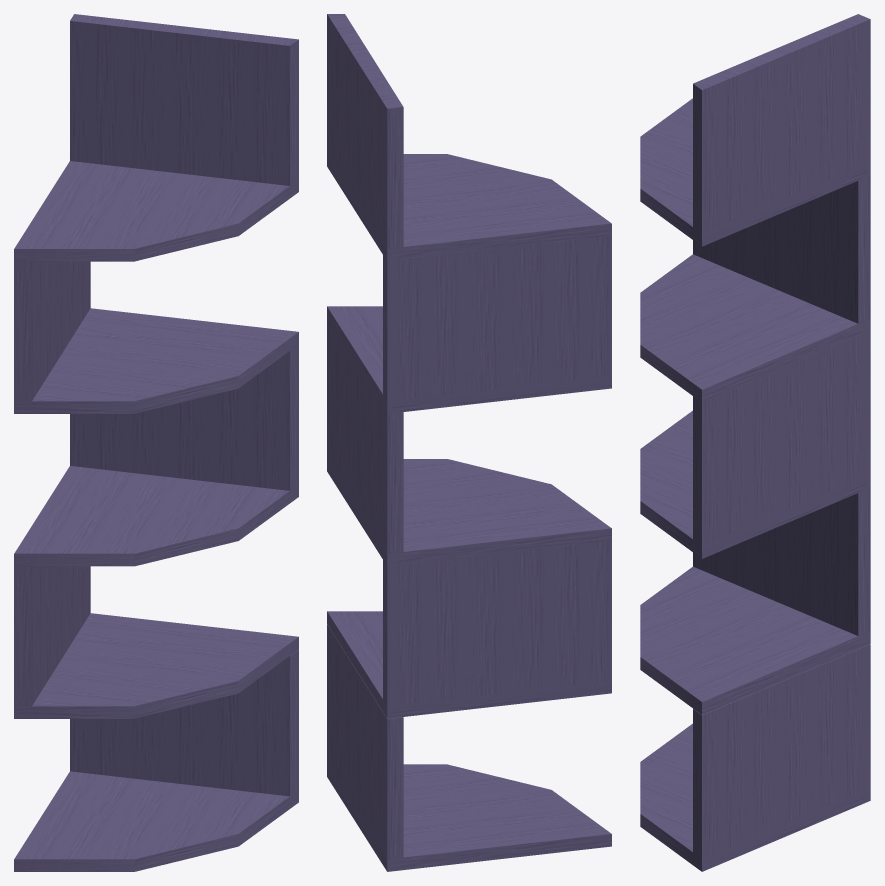
File: Corner_Shelving_08.FBX
3 views of the same model, side by side, from view 1: azimuth 30°, elevation 25°; view 2: azimuth 150°, elevation 25°; view 3: azimuth 270°, elevation 25° (orthographic). The views are drawn at different scales.
Parts seen in each view (by area): view 1: Corner_Shelving; view 2: Corner_Shelving; view 3: Corner_Shelving.
Part boxes in pixels (bbox=[...]): Corner_Shelving: bbox=[14, 14, 298, 871]; Corner_Shelving: bbox=[327, 14, 611, 871]; Corner_Shelving: bbox=[640, 14, 870, 871].
Bounding box in the file's own units: 141 × 362 × 96.59.
